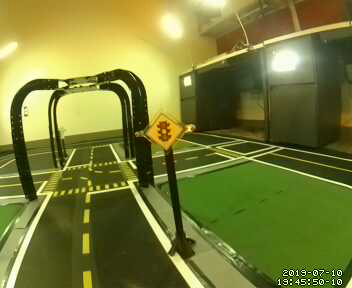Traffic light sign: (145, 113, 183, 149)
